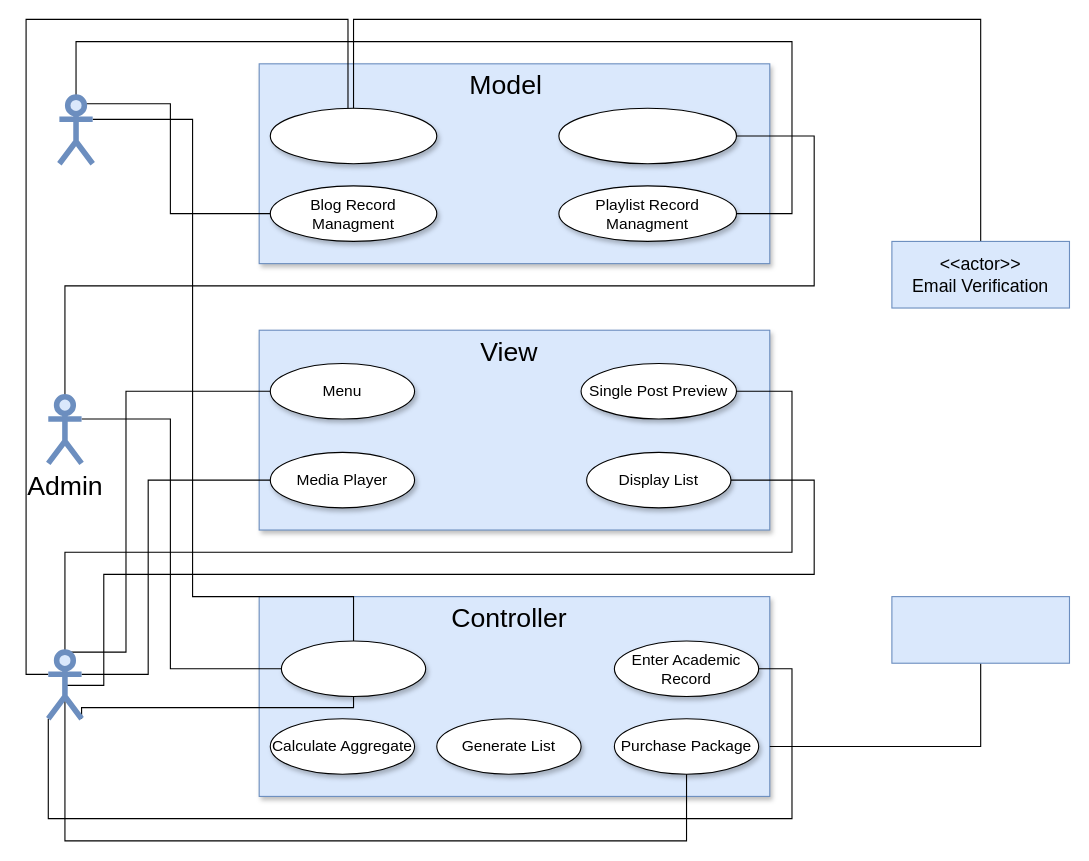
This 1089x861 diagram has some shape labels left out. The shapes that lost their labels are listed below. From the top down, each one's centre as x and y in pixels, then its label:
At (75,130): "Author".
At (354,137): "Account Records Managment".
At (648,137): "University Record Managment".
At (980,629): "<<actor>> Payment Verification".
At (64,685): "Student".
At (354,669): "Login".
